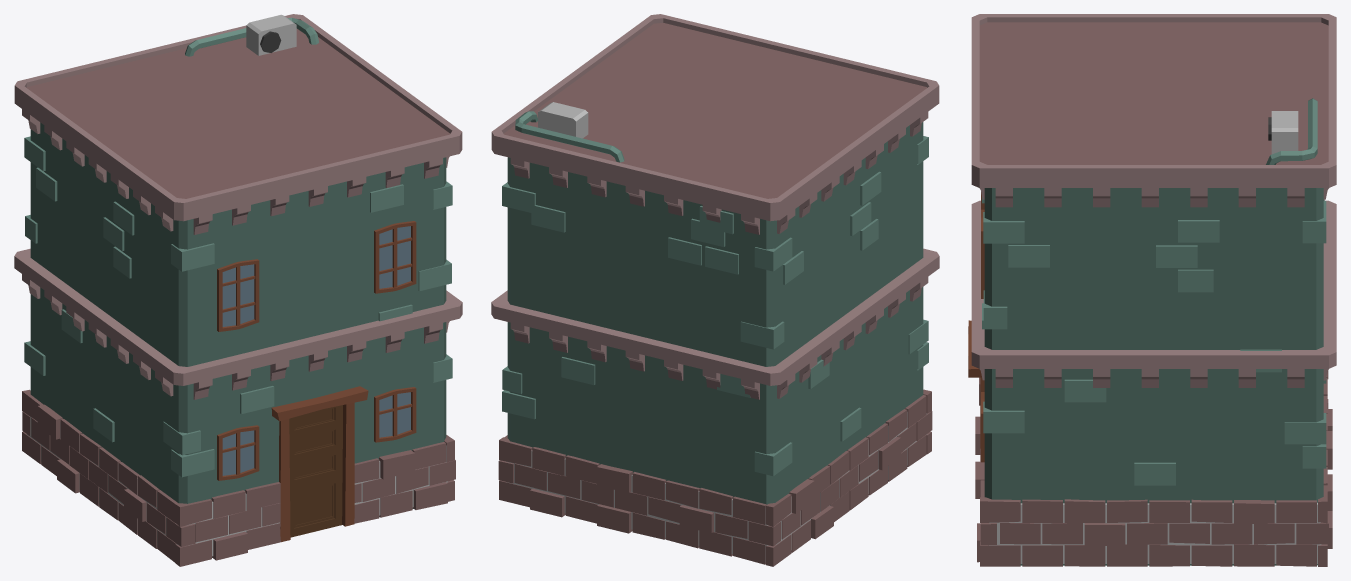
File: 2Story_2_Mat.glb
3 views of the same model, side by side, from view 1: azimuth 30°, elevation 25°; view 2: azimuth 150°, elevation 25°; view 3: azimuth 270°, elevation 25° (orthographic). The views are drawn at different scales.
Visible parts, largest first — view 1: 2Story_2_Mat; view 2: 2Story_2_Mat; view 3: 2Story_2_Mat.
Boxes of the visible parts, bbox=[...] form: 2Story_2_Mat: bbox=[14, 14, 462, 566]; 2Story_2_Mat: bbox=[491, 14, 939, 566]; 2Story_2_Mat: bbox=[968, 14, 1336, 566].
Bounding box in the file's own units: 2.16 × 2.76 × 2.17.
